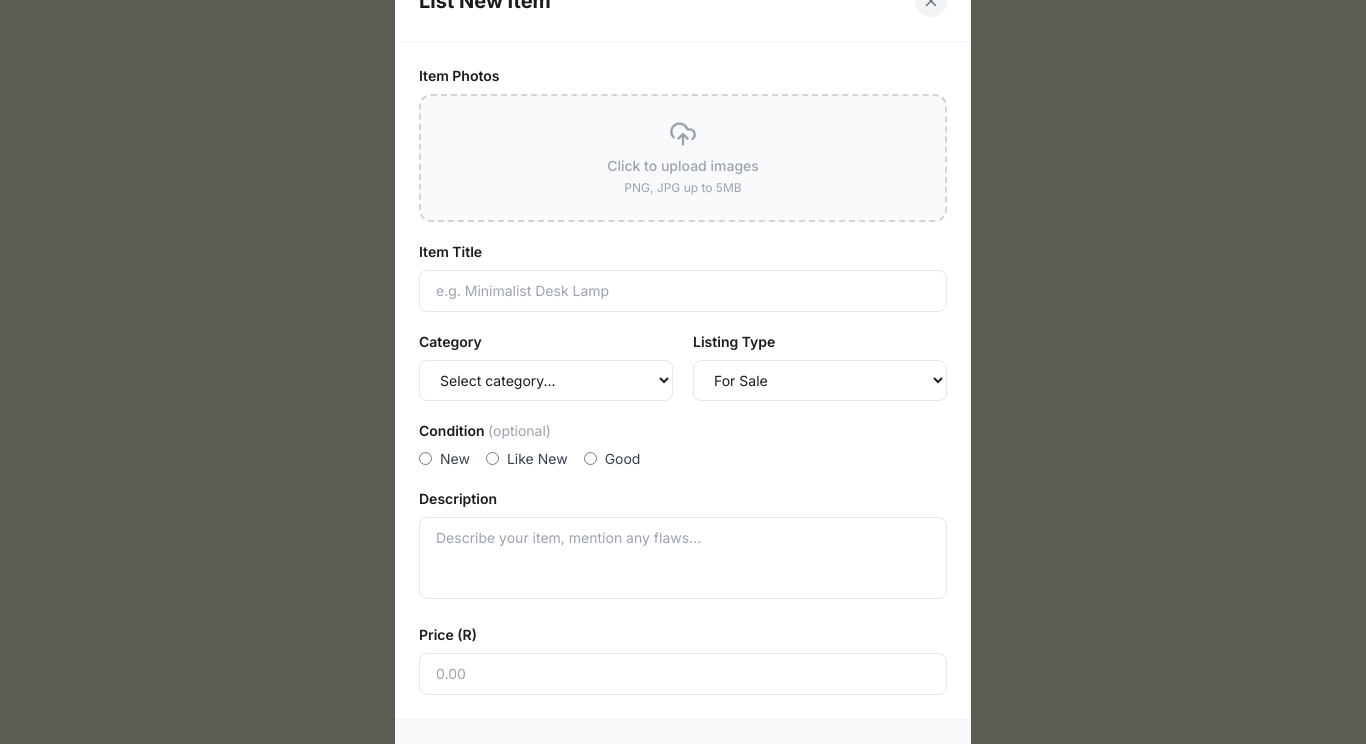
Test: SellItemModal Component › Condition clear button appears after selection and clears condition
Click the radio button labelled "Good" at [590, 458], box [584, 452, 597, 465]
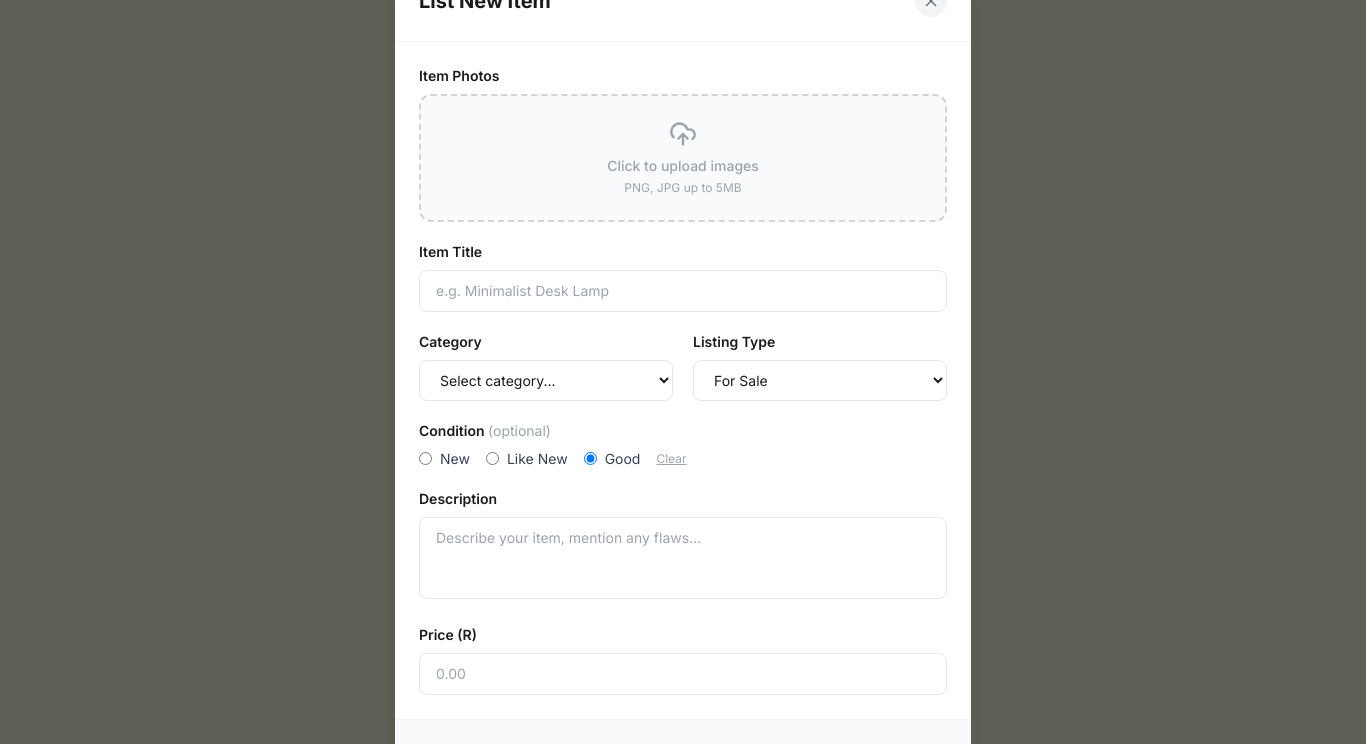
Now the radio button labelled "Good" is checked, box [584, 452, 597, 465]
Now the button "Clear" is shown
Click the button "Clear" at [671, 458], box [656, 448, 686, 468]
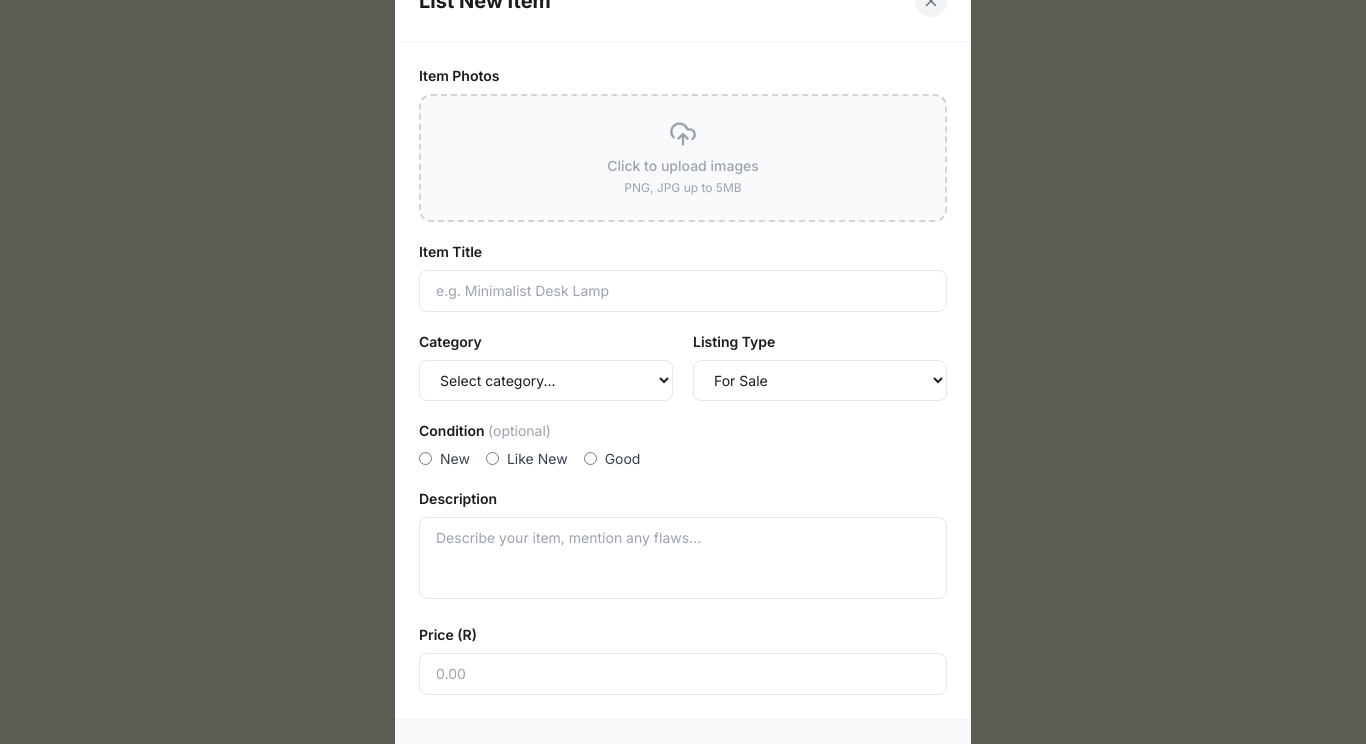
Now the radio button labelled "Good" is not checked, box [584, 452, 597, 465]
Now the button "Clear" is gone
